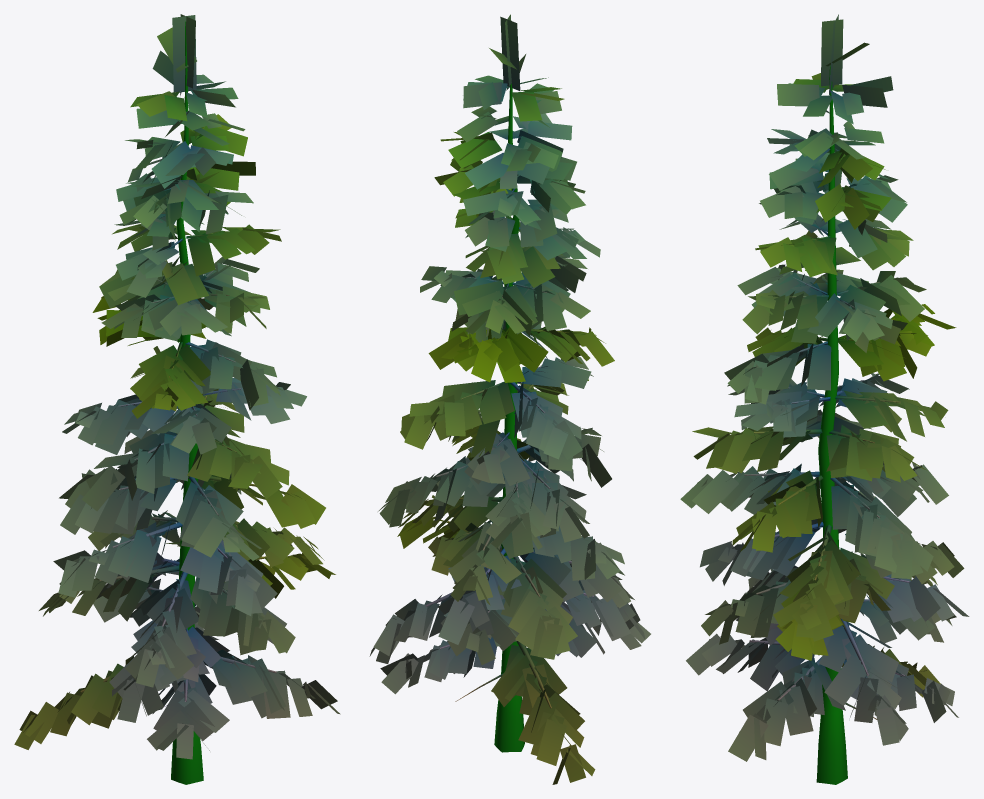
The model's file is larch_b.glb.
3 views of the same model, side by side, from view 1: azimuth 30°, elevation 25°; view 2: azimuth 150°, elevation 25°; view 3: azimuth 270°, elevation 25° (orthographic). The views are drawn at different scales.
Visible parts, largest first — view 1: LOD0; view 2: LOD0; view 3: LOD0.
Part boxes in pixels (x1,y1,x2,y2): LOD0: (14,14,340,784); LOD0: (369,14,650,784); LOD0: (680,14,969,784).
Size of what is drawn, in the model's own units: 4.43 by 12.46 by 4.31.
